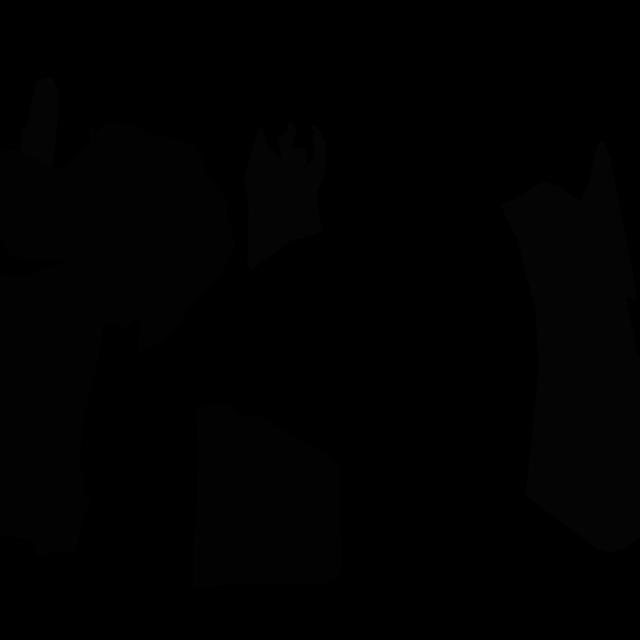cardboard: (0, 135, 235, 353), (0, 262, 103, 558), (192, 403, 342, 590), (0, 121, 166, 236)
soft_plastic: (501, 182, 640, 553), (244, 123, 326, 272), (580, 141, 637, 300), (21, 77, 59, 168)
